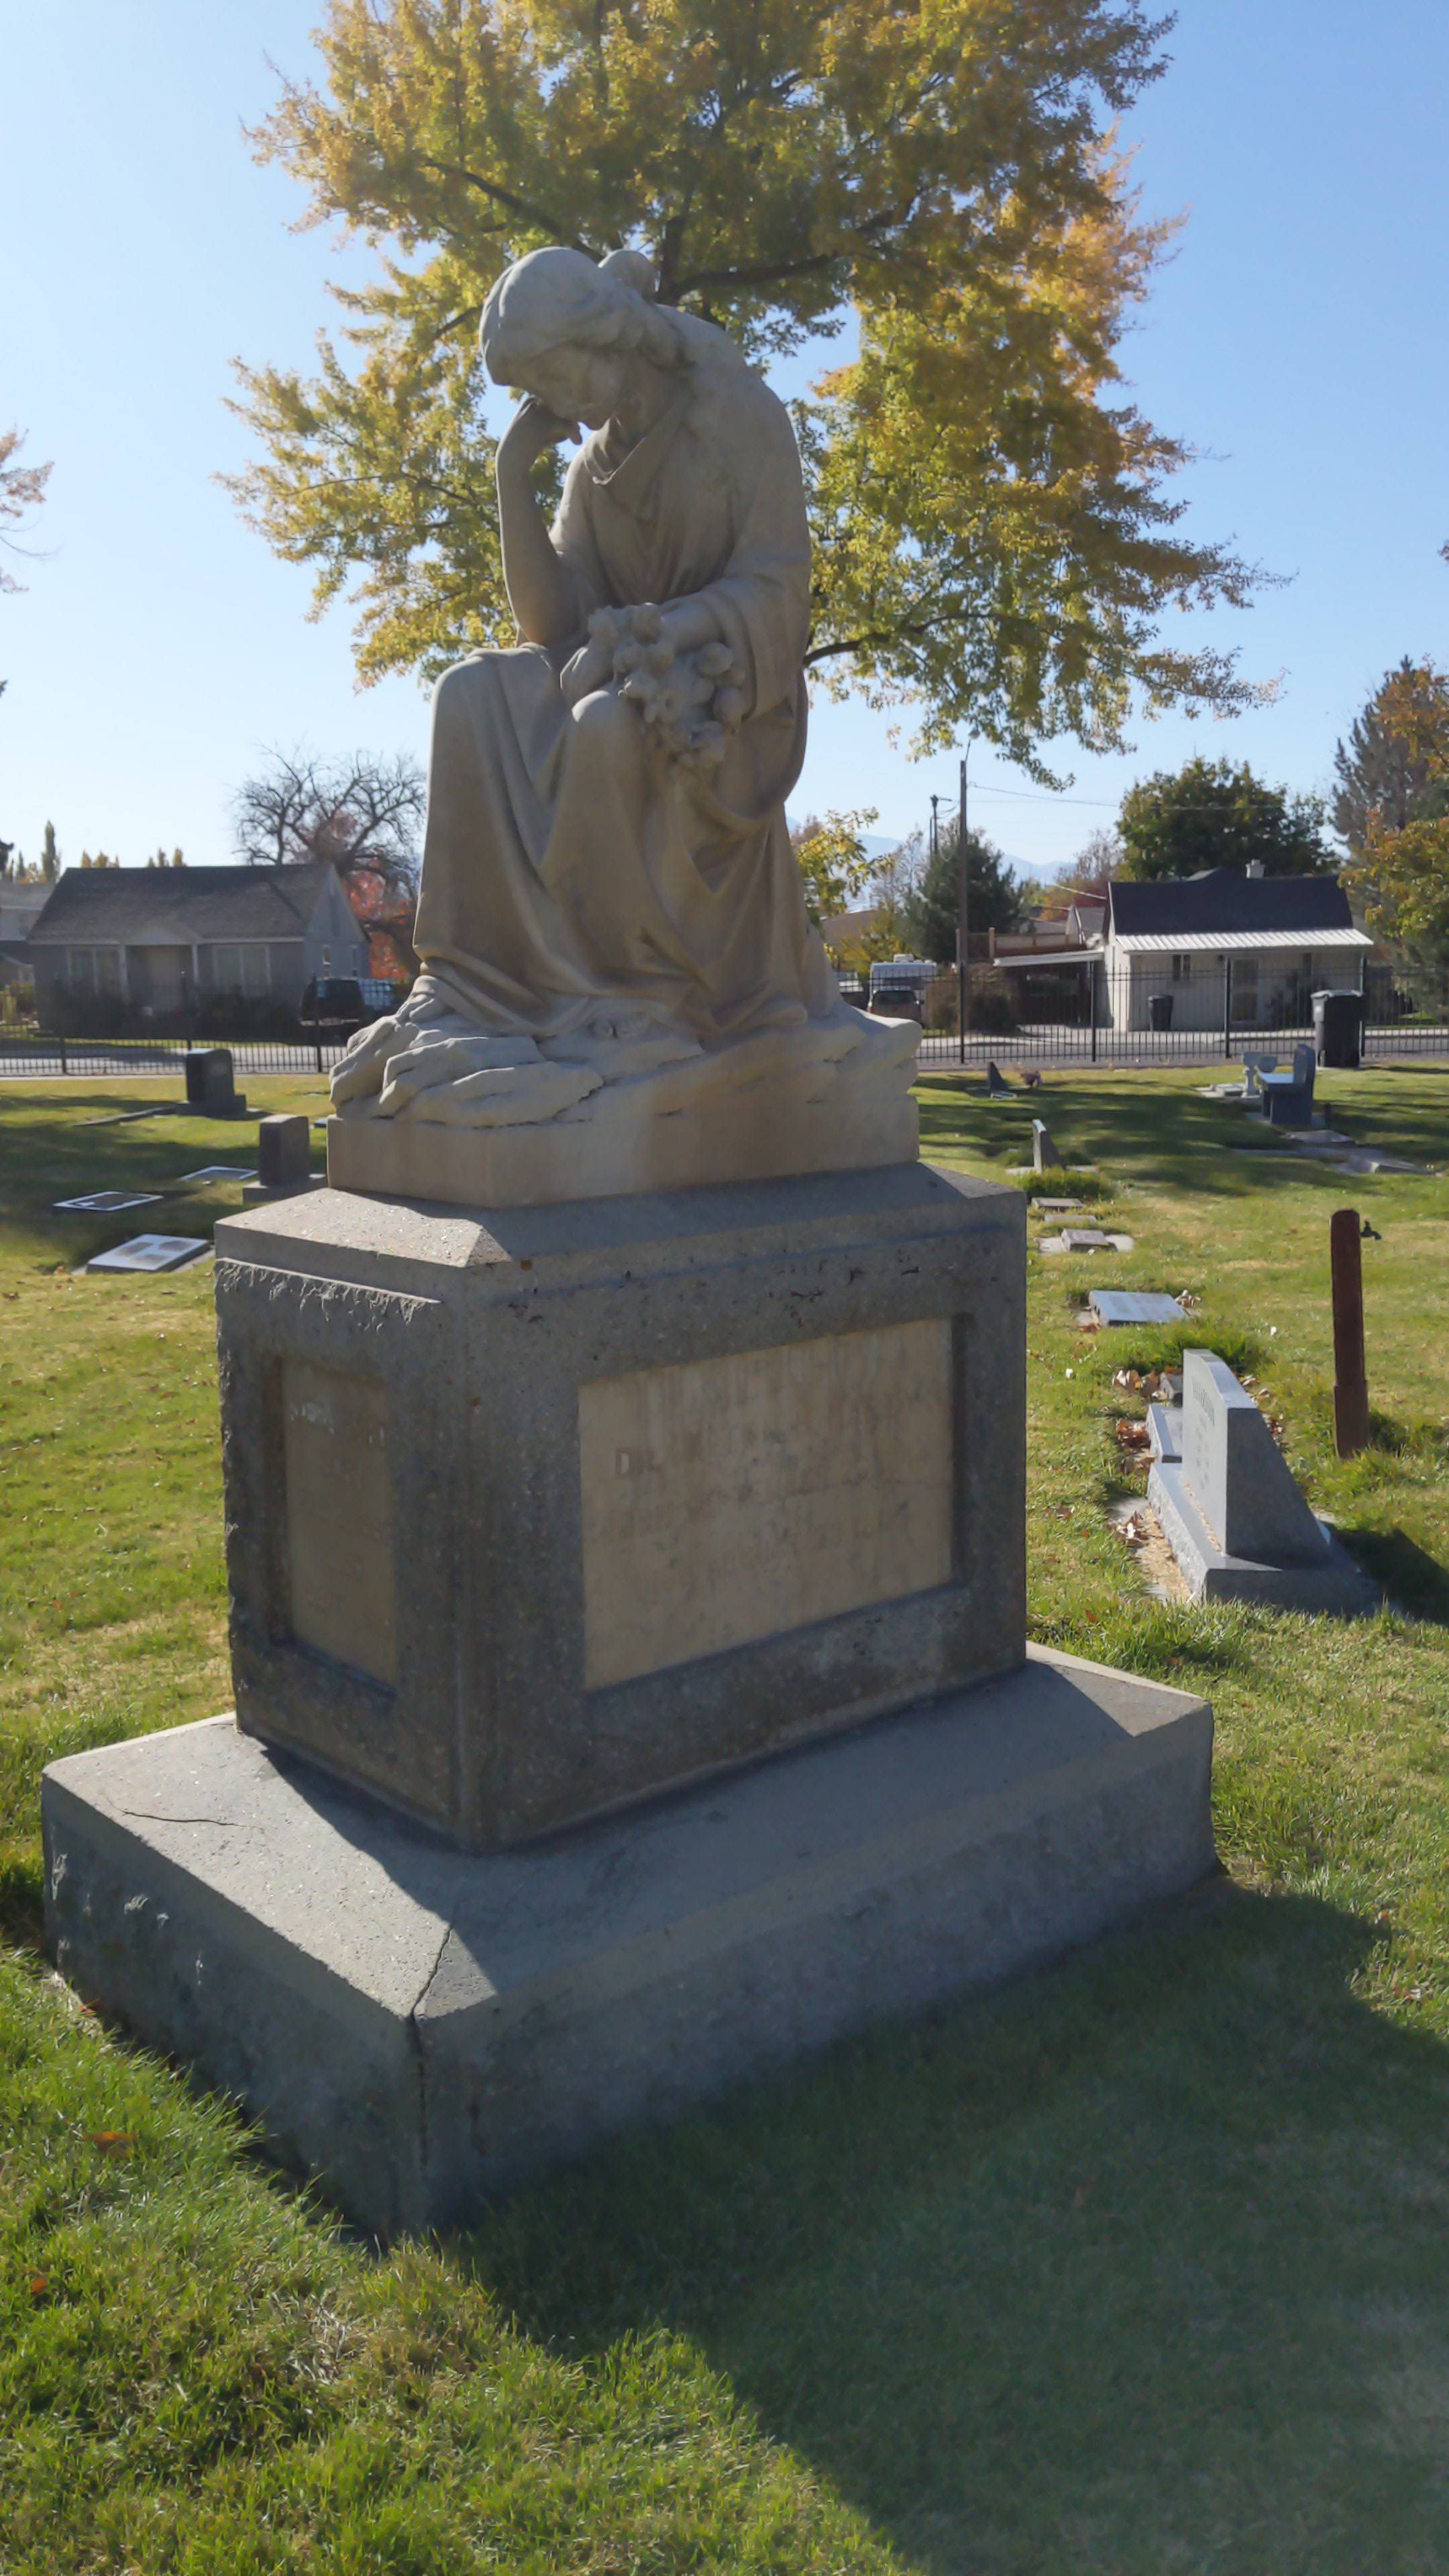statue: (218, 251, 1008, 1863)
